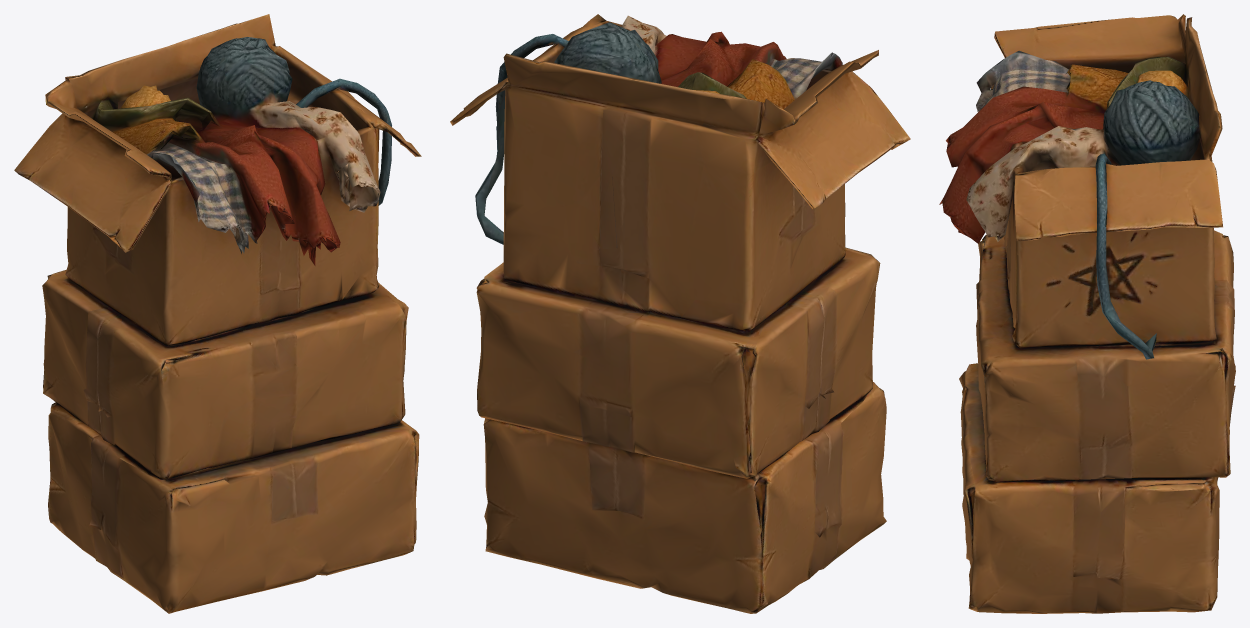
Rendered from boxes.glb.
3 views of the same model, side by side, from view 1: azimuth 30°, elevation 25°; view 2: azimuth 150°, elevation 25°; view 3: azimuth 270°, elevation 25° (orthographic). The views are drawn at different scales.
Visible parts, largest first — view 1: node_6f690d79-47cd-41fe-bbf2-d5d302e7b177; view 2: node_6f690d79-47cd-41fe-bbf2-d5d302e7b177; view 3: node_6f690d79-47cd-41fe-bbf2-d5d302e7b177.
Part boxes in pixels (box(x1,y1,x2,y2)): node_6f690d79-47cd-41fe-bbf2-d5d302e7b177: box(14, 14, 421, 613); node_6f690d79-47cd-41fe-bbf2-d5d302e7b177: box(450, 14, 910, 613); node_6f690d79-47cd-41fe-bbf2-d5d302e7b177: box(939, 14, 1235, 613).
Bounding box in the file's own units: 0.7448 × 1 × 0.5506.
1 material, 1 textured.
